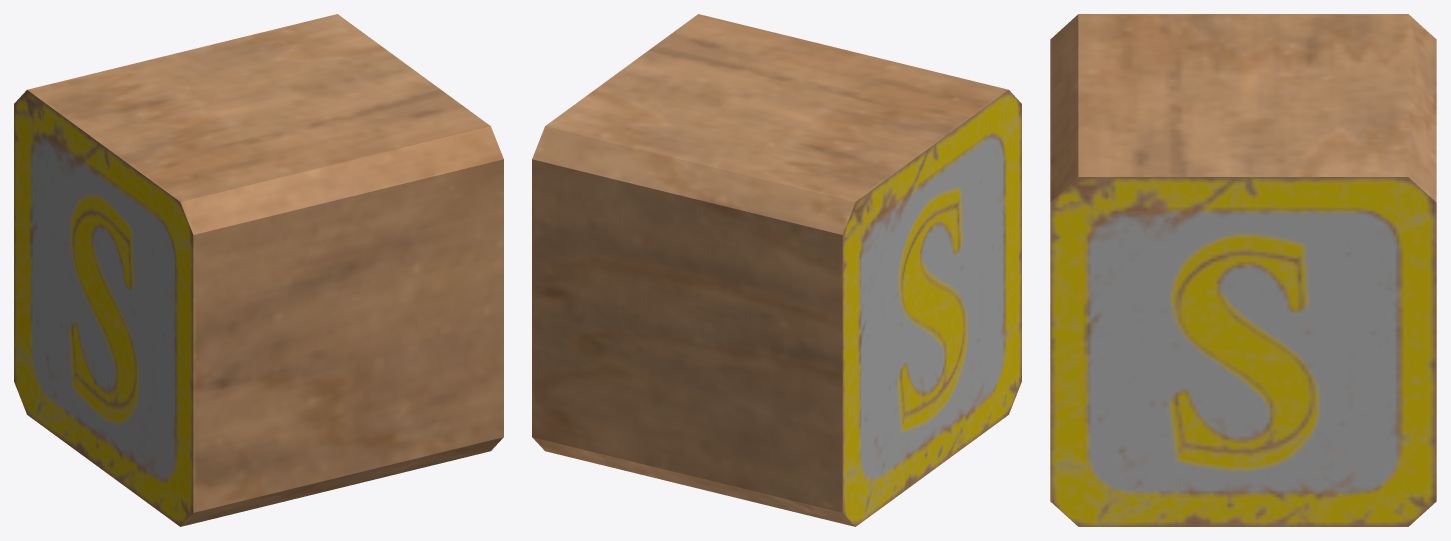
The model's file is ToyBlock_S.fbx.
3 renders of one model, left to right at view 1: azimuth 30°, elevation 25°; view 2: azimuth 150°, elevation 25°; view 3: azimuth 270°, elevation 25°, orthographic. The views are drawn at different scales.
Visible parts, largest first — view 1: ToyBlockS; view 2: ToyBlockS; view 3: ToyBlockS.
Part boxes in pixels (left/top/right/bottom): ToyBlockS: left=14, top=14, right=503, bottom=526; ToyBlockS: left=532, top=14, right=1021, bottom=526; ToyBlockS: left=1050, top=14, right=1436, bottom=526.
Bounding box in the file's own units: 100 × 100 × 100.
Materials: 1 (1 with a texture image).
